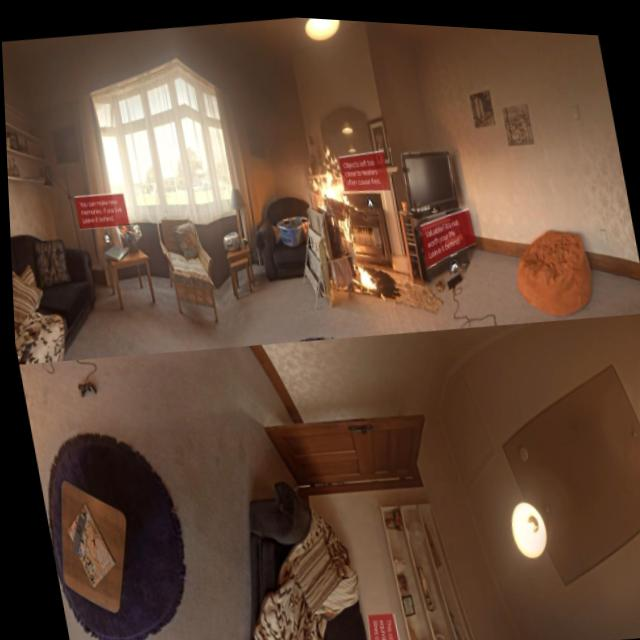fire: (295, 133, 358, 248), (346, 250, 380, 299)
